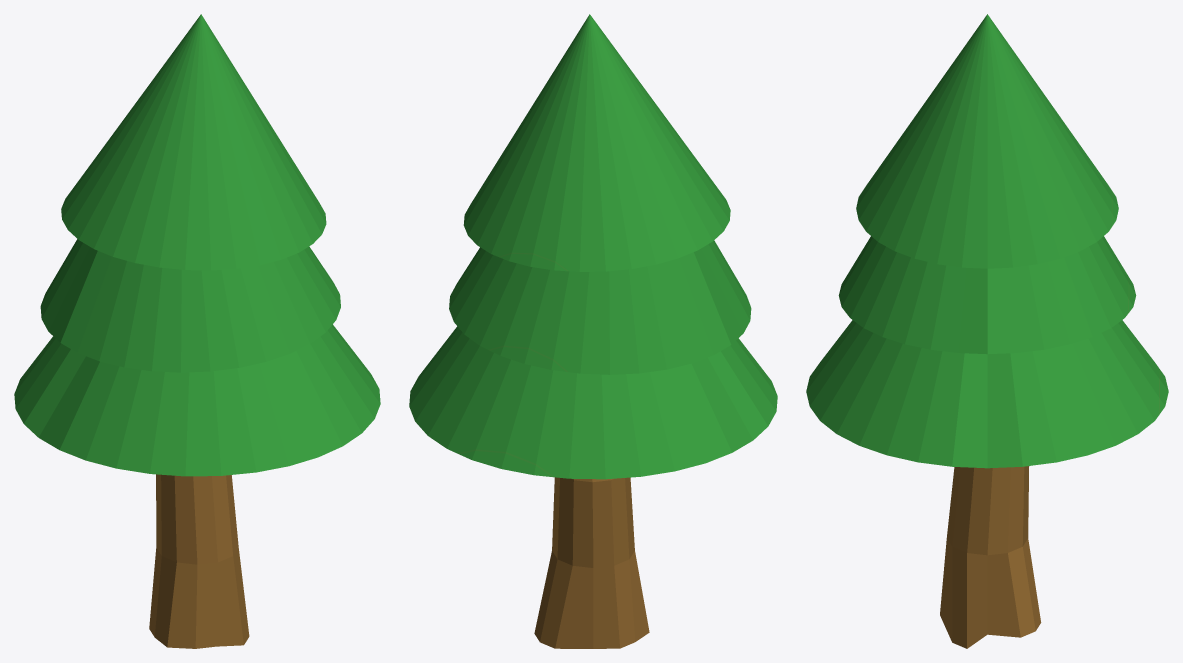
File: Tree_04.fbx
3 views of the same model, side by side, from view 1: azimuth 30°, elevation 25°; view 2: azimuth 150°, elevation 25°; view 3: azimuth 270°, elevation 25° (orthographic).
Parts seen in each view (by area): view 1: Tree04; view 2: Tree04; view 3: Tree04.
Boxes of the visible parts, box(x1,y1,x2,y2) form: Tree04: box(14, 14, 380, 648); Tree04: box(409, 14, 777, 648); Tree04: box(806, 14, 1168, 648).
Bounding box in the file's own units: 828 × 1554 × 828.
